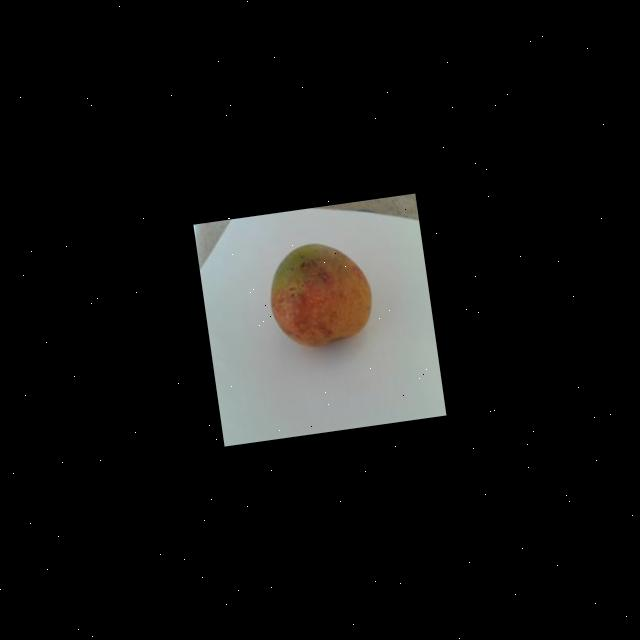Mango: (263, 235, 377, 352)
